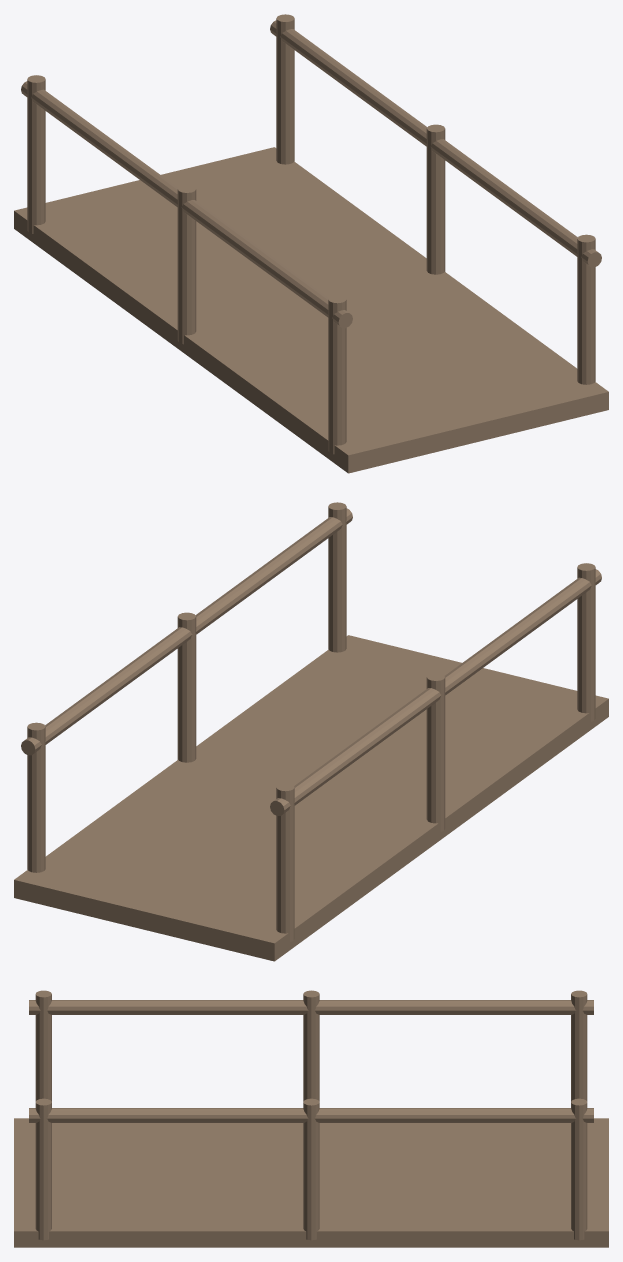
The model's file is AR-BRIDGE.glb.
3 views of the same model, one above another, from view 1: azimuth 30°, elevation 25°; view 2: azimuth 150°, elevation 25°; view 3: azimuth 270°, elevation 25° (orthographic). The views are drawn at different scales.
Parts seen in each view (by area): view 1: bridge_deck, post (×6), rail (×2); view 2: bridge_deck, post (×6), rail (×2); view 3: bridge_deck, rail (×2), post (×6).
Boxes of the visible parts, x1,y1,x2,y2 form: bridge_deck: [14, 147, 608, 473]; post (×6): [27, 14, 595, 454]; rail (×2): [21, 20, 601, 328]; bridge_deck: [14, 635, 608, 961]; post (×6): [27, 502, 595, 942]; rail (×2): [21, 508, 601, 816]; bridge_deck: [14, 1118, 608, 1247]; rail (×2): [29, 1000, 593, 1122]; post (×6): [35, 990, 587, 1240].
Size of the model in its own units: 1.83 by 1.06 by 4.
